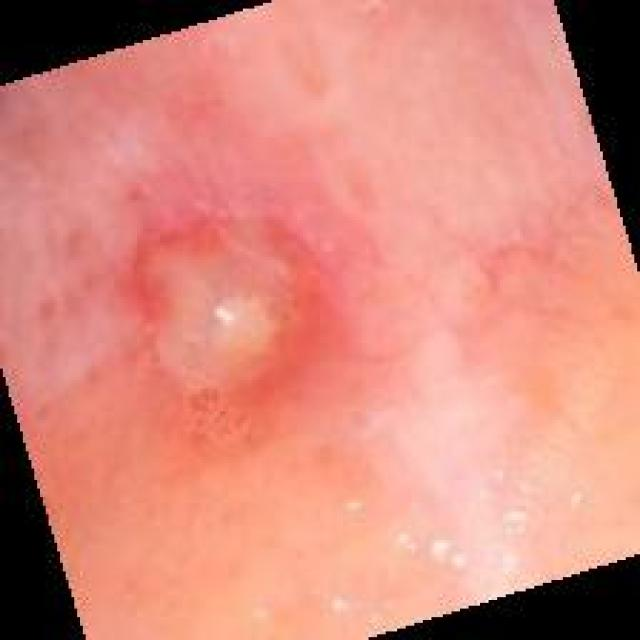others: (0, 94, 631, 557)
